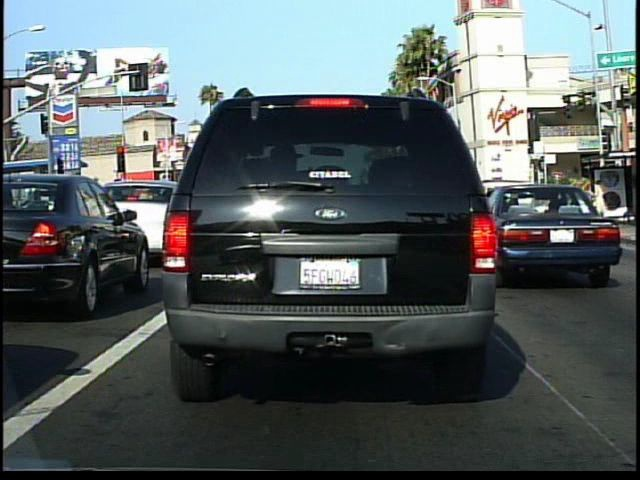person: (588, 169, 613, 226)
